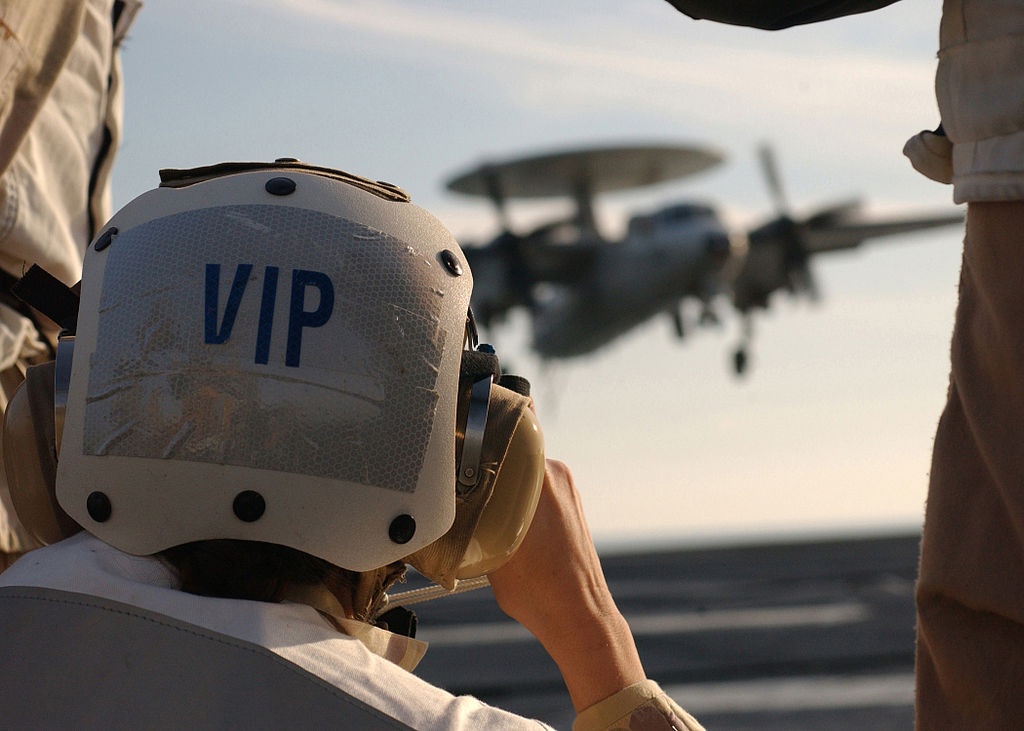E2: (433, 132, 967, 423)
